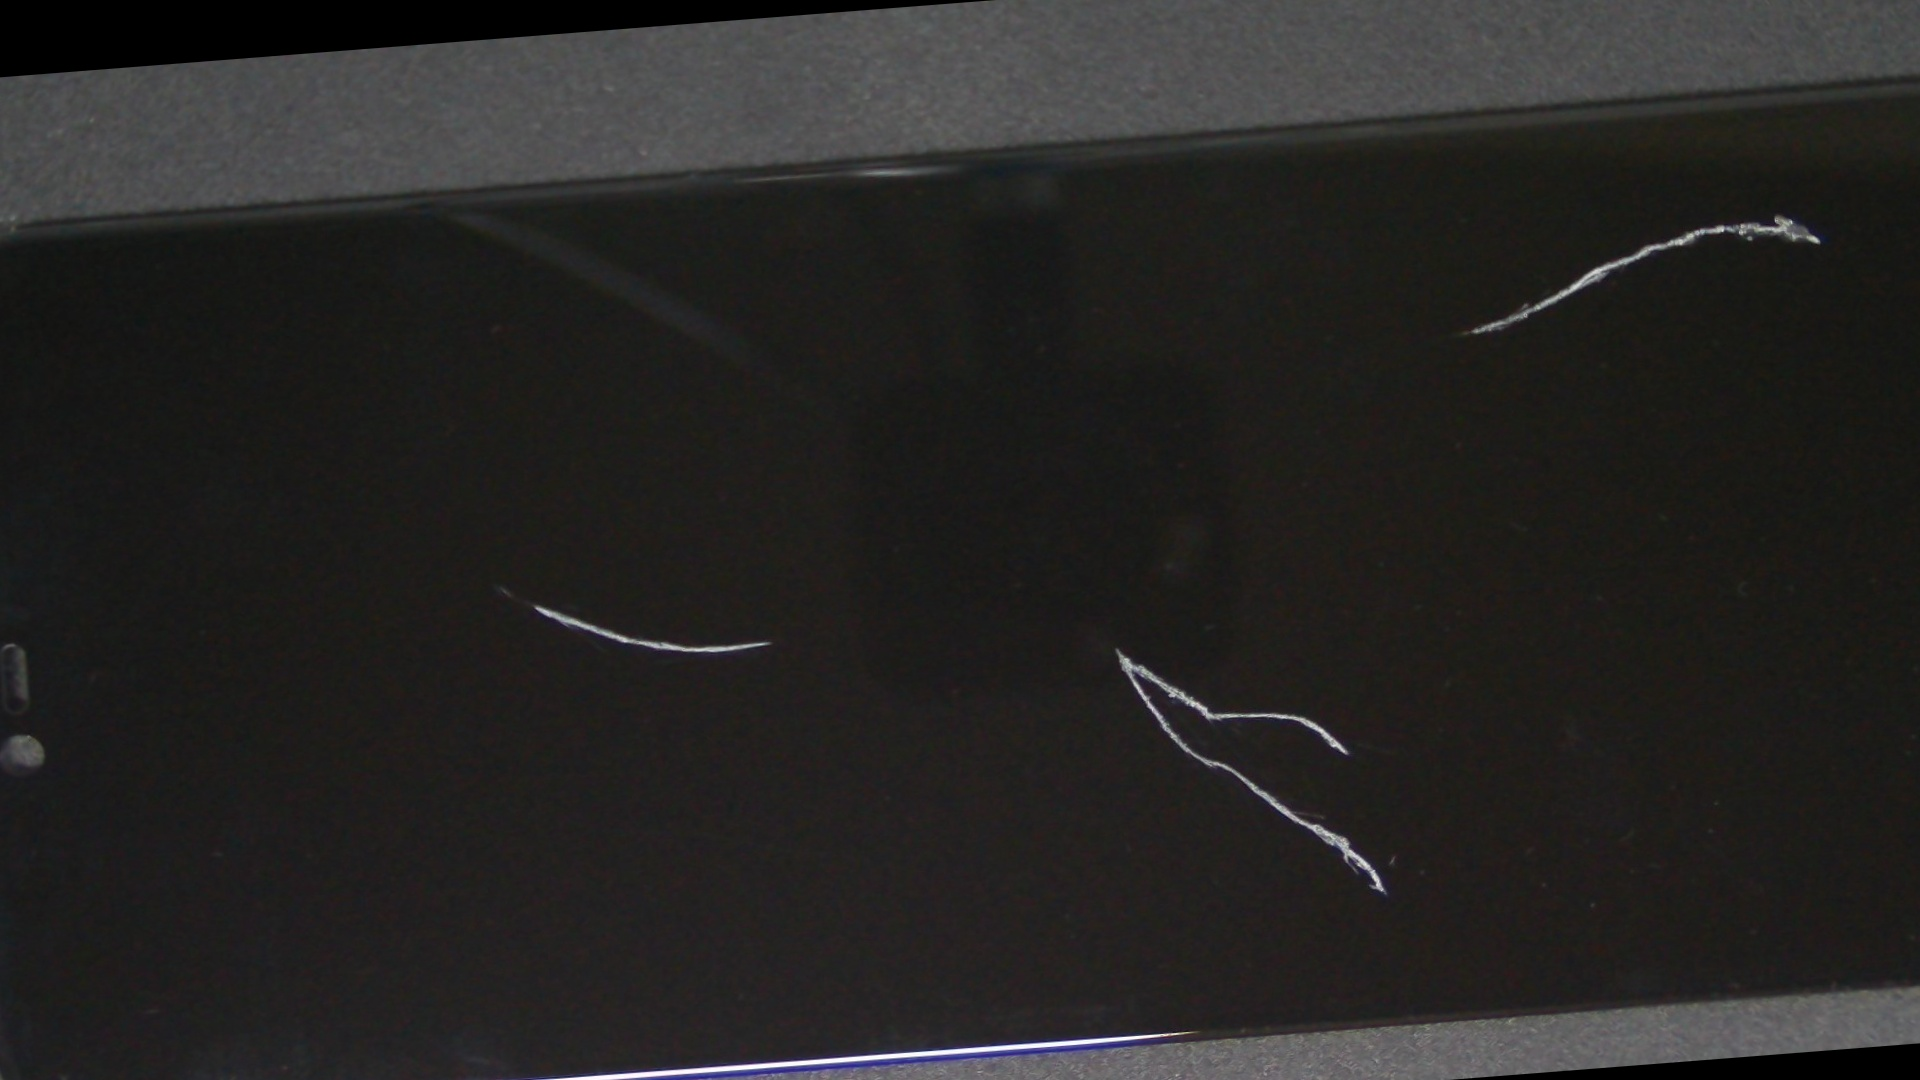oil: (506, 274, 1727, 1017), (835, 51, 1920, 423), (212, 298, 849, 910), (198, 291, 804, 878)
